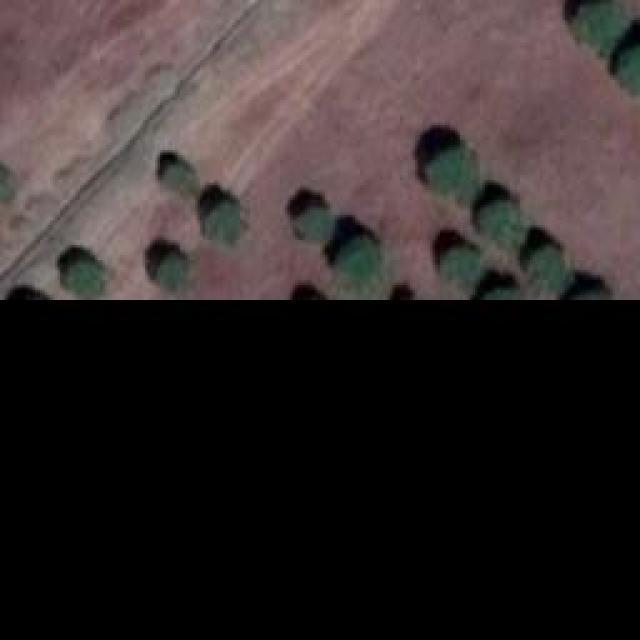Tree: (340, 240, 388, 298), (428, 148, 478, 201), (575, 0, 623, 48), (483, 203, 526, 246), (527, 248, 565, 291), (63, 260, 103, 295), (440, 248, 480, 283), (205, 205, 238, 240), (300, 205, 333, 238), (622, 45, 640, 100), (158, 258, 188, 291), (165, 165, 193, 190)
